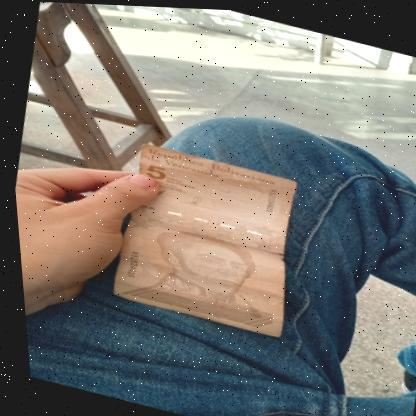five-front-vef: (97, 138, 308, 337)
